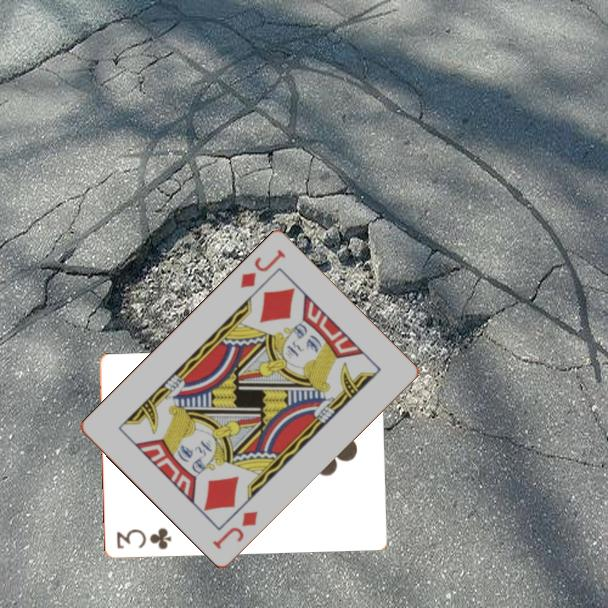c03: (114, 524, 174, 552)
d11: (237, 246, 289, 292), (209, 508, 261, 553)
